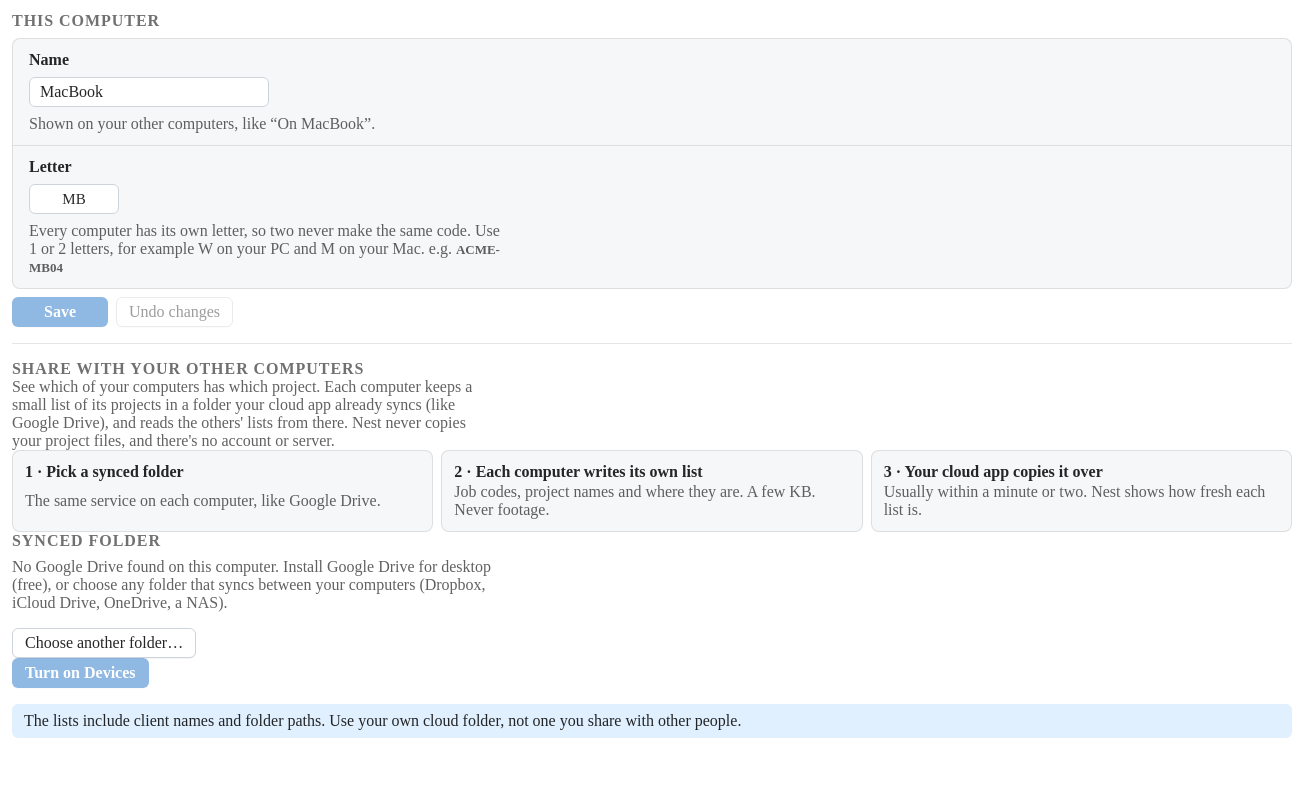
Test: Settings → Computers: this computer › takes 1 or 2 letters and drops digits as you type
Replace the text in the field labelled "Letter" with "w1l" at (74, 199), box [29,184,119,214]
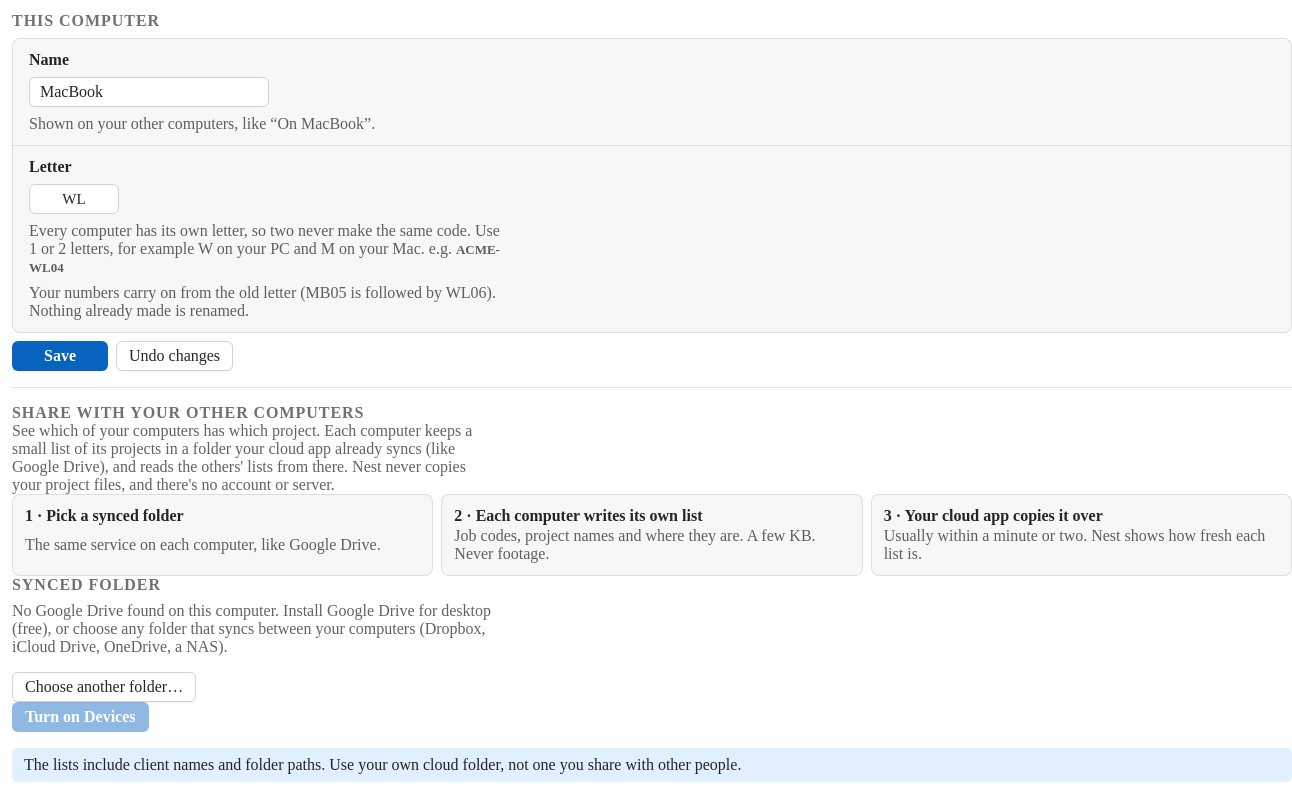
Check: the field labelled "Letter" holds "WL", box [29,184,119,214]
